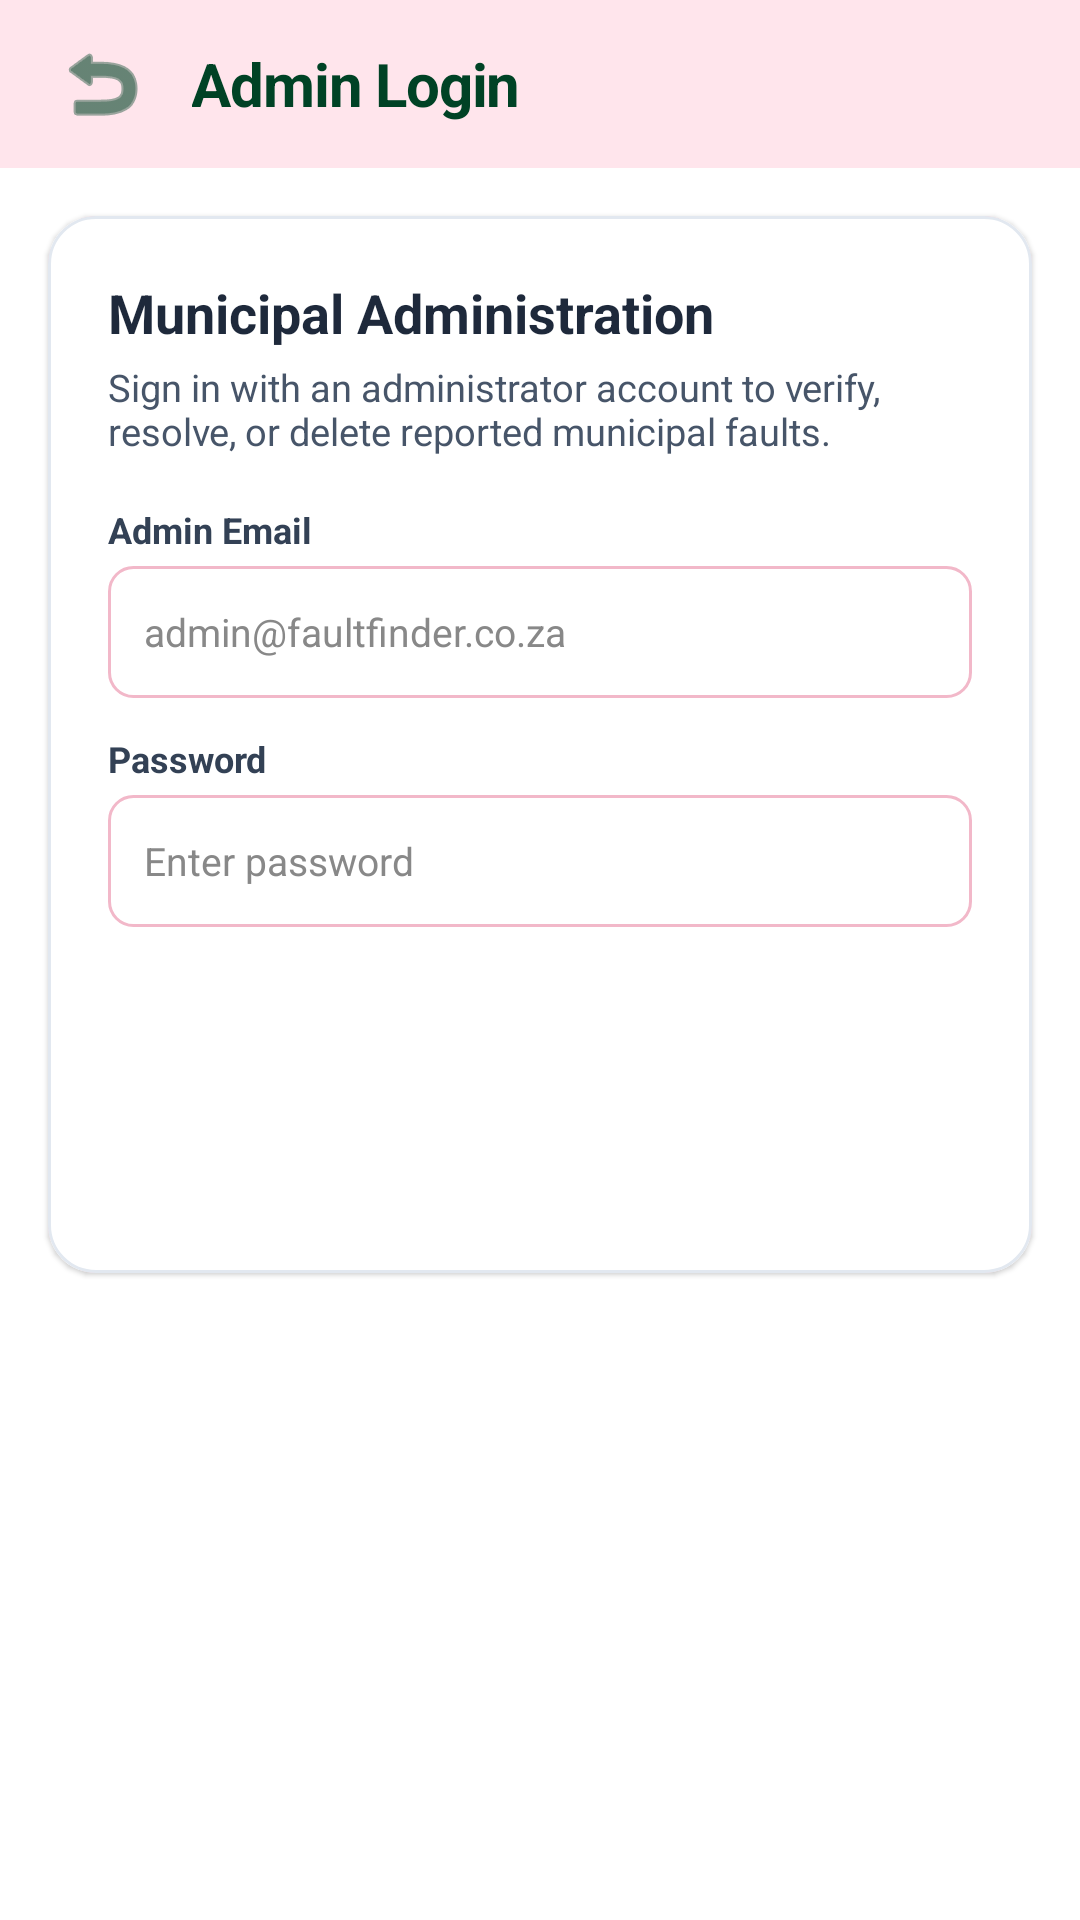

Where to tap for icons on this 1080 × 1920 app screen, as (x,y):
Back: (103,84)
